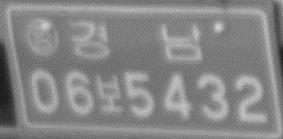0: (28, 68, 60, 114)
2: (233, 74, 268, 124)
3: (196, 72, 229, 121)
4: (162, 71, 194, 120)
5: (124, 70, 156, 118)
6: (64, 68, 95, 116)
경남_D: (67, 19, 204, 63)
보: (94, 73, 125, 113)
영: (26, 17, 60, 57)
